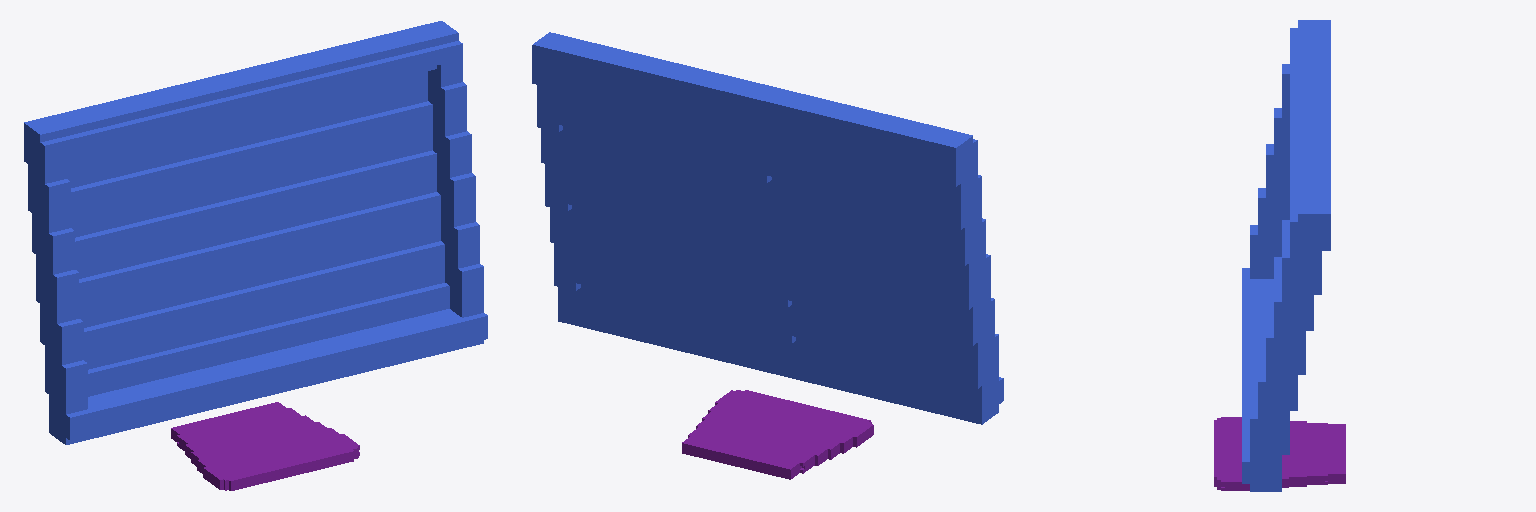
URDF robot description (physxnet_5050_strict):
<?xml version='1.0' encoding='utf-8'?>
<robot name="physxnet_5050_strict">
  <link name="l_world">
    <inertial>
      <origin xyz="0 0 0" rpy="0 0 0" />
      <mass value="0.0100000000" />
      <inertia ixx="0.0000001667" ixy="0.0" ixz="0.0" iyy="0.0000001667" iyz="0.0" izz="0.0000001667" />
    </inertial>
  </link><link name="l_0">
    <inertial>
      <origin xyz="0.0000000000 -0.0086540708 0.0417880572" rpy="0 0 0" />
      <mass value="0.2693409278" />
      <inertia ixx="0.0026585536" ixy="0.0" ixz="0.0" iyy="0.0080876225" iyz="0.0" izz="0.0057934697" />
    </inertial><visual>
      <origin xyz="0 0 0" rpy="0 0 0" />
      <geometry>
        <mesh filename="../rigid_visuals/part_000_visual.obj" scale="1 1 1" />
      </geometry><material name="mat_l_0">
        <color rgba="0.32548 0.48041 0.93131 1.00000" />
      </material>
    </visual><collision>
      <origin xyz="0 0 0" rpy="0 0 0" />
      <geometry>
        <mesh filename="part_000_collision.obj" scale="1 1 1" />
      </geometry>
    </collision>
  </link><joint name="joint_fixed_l_world_l_0" type="fixed">
    <parent link="l_world" />
    <child link="l_0" />
    <origin xyz="0 0 0" rpy="0 0 0" />
  </joint><link name="l_1">
    <inertial>
      <origin xyz="-0.0000001562 -0.0209481390 0.0440873974" rpy="0 0 0" />
      <mass value="0.2506707308" />
      <inertia ixx="0.0017144013" ixy="0.0" ixz="0.0" iyy="0.0061477789" iyz="0.0" izz="0.0045427350" />
    </inertial><visual>
      <origin xyz="0 0 0" rpy="0 0 0" />
      <geometry>
        <mesh filename="../rigid_visuals/part_001_visual.obj" scale="1 1 1" />
      </geometry><material name="mat_l_1">
        <color rgba="0.15447 0.35718 0.26453 1.00000" />
      </material>
    </visual><collision>
      <origin xyz="0 0 0" rpy="0 0 0" />
      <geometry>
        <mesh filename="part_001_collision.obj" scale="1 1 1" />
      </geometry>
    </collision>
  </link><joint name="joint_fixed_l_0_l_1" type="fixed">
    <parent link="l_0" />
    <child link="l_1" />
    <origin xyz="0 0 0" rpy="0 0 0" />
  </joint><link name="l_2">
    <inertial>
      <origin xyz="-0.0000001562 0.0483882756 -0.0861062631" rpy="0 0 0" />
      <mass value="0.2819513849" />
      <inertia ixx="0.0015445053" ixy="0.0" ixz="0.0" iyy="0.0017511159" iyz="0.0" izz="0.0005088540" />
    </inertial><visual>
      <origin xyz="0 0 0" rpy="0 0 0" />
      <geometry>
        <mesh filename="../rigid_visuals/part_002_visual.obj" scale="1 1 1" />
      </geometry><material name="mat_l_2">
        <color rgba="0.29417 0.82410 0.87988 1.00000" />
      </material>
    </visual><collision>
      <origin xyz="0 0 0" rpy="0 0 0" />
      <geometry>
        <mesh filename="part_002_collision.obj" scale="1 1 1" />
      </geometry>
    </collision>
  </link><joint name="joint_fixed_l_1_l_2" type="fixed">
    <parent link="l_1" />
    <child link="l_2" />
    <origin xyz="0 0 0" rpy="0 0 0" />
  </joint><link name="l_3">
    <inertial>
      <origin xyz="-0.0000001562 -0.0160625875 -0.2046486213" rpy="0 0 0" />
      <mass value="0.0187299174" />
      <inertia ixx="0.0000328132" ixy="0.0" ixz="0.0" iyy="0.0000460652" iyz="0.0" izz="0.0000787490" />
    </inertial><visual>
      <origin xyz="0 0 0" rpy="0 0 0" />
      <geometry>
        <mesh filename="../rigid_visuals/part_003_visual.obj" scale="1 1 1" />
      </geometry><material name="mat_l_3">
        <color rgba="0.55944 0.19916 0.68114 1.00000" />
      </material>
    </visual><collision>
      <origin xyz="0 0 0" rpy="0 0 0" />
      <geometry>
        <mesh filename="part_003_collision.obj" scale="1 1 1" />
      </geometry>
    </collision>
  </link><joint name="joint_fixed_l_2_l_3" type="fixed">
    <parent link="l_2" />
    <child link="l_3" />
    <origin xyz="0 0 0" rpy="0 0 0" />
  </joint>
</robot>

--- Facts derived from the render (not from the file) ---
Views: 3 orthographic renders of the robot side by side, from view 1: azimuth 30°, elevation 25°; view 2: azimuth 150°, elevation 25°; view 3: azimuth 270°, elevation 25°.
Model physxnet_5050_strict with 5 links and 4 joints (4 fixed), rooted at l_world, posed every joint at zero.
Links seen in each view (by area): view 1: l_0, l_3; view 2: l_0, l_3; view 3: l_0, l_3.
Link boxes in pixels (left/top/right/bottom): l_0: left=24, top=21, right=487, bottom=444; l_3: left=171, top=402, right=359, bottom=490; l_0: left=532, top=32, right=1003, bottom=424; l_3: left=682, top=390, right=873, bottom=479; l_0: left=1242, top=20, right=1330, bottom=491; l_3: left=1214, top=417, right=1345, bottom=490.
Size in the robot's own frame: 0.5136 by 0.148 by 0.4217 metres.
2 mesh visuals loaded from 4 distinct referenced files (2 OBJ); not drawn: 2 (reference not matched to a file when rendering).
